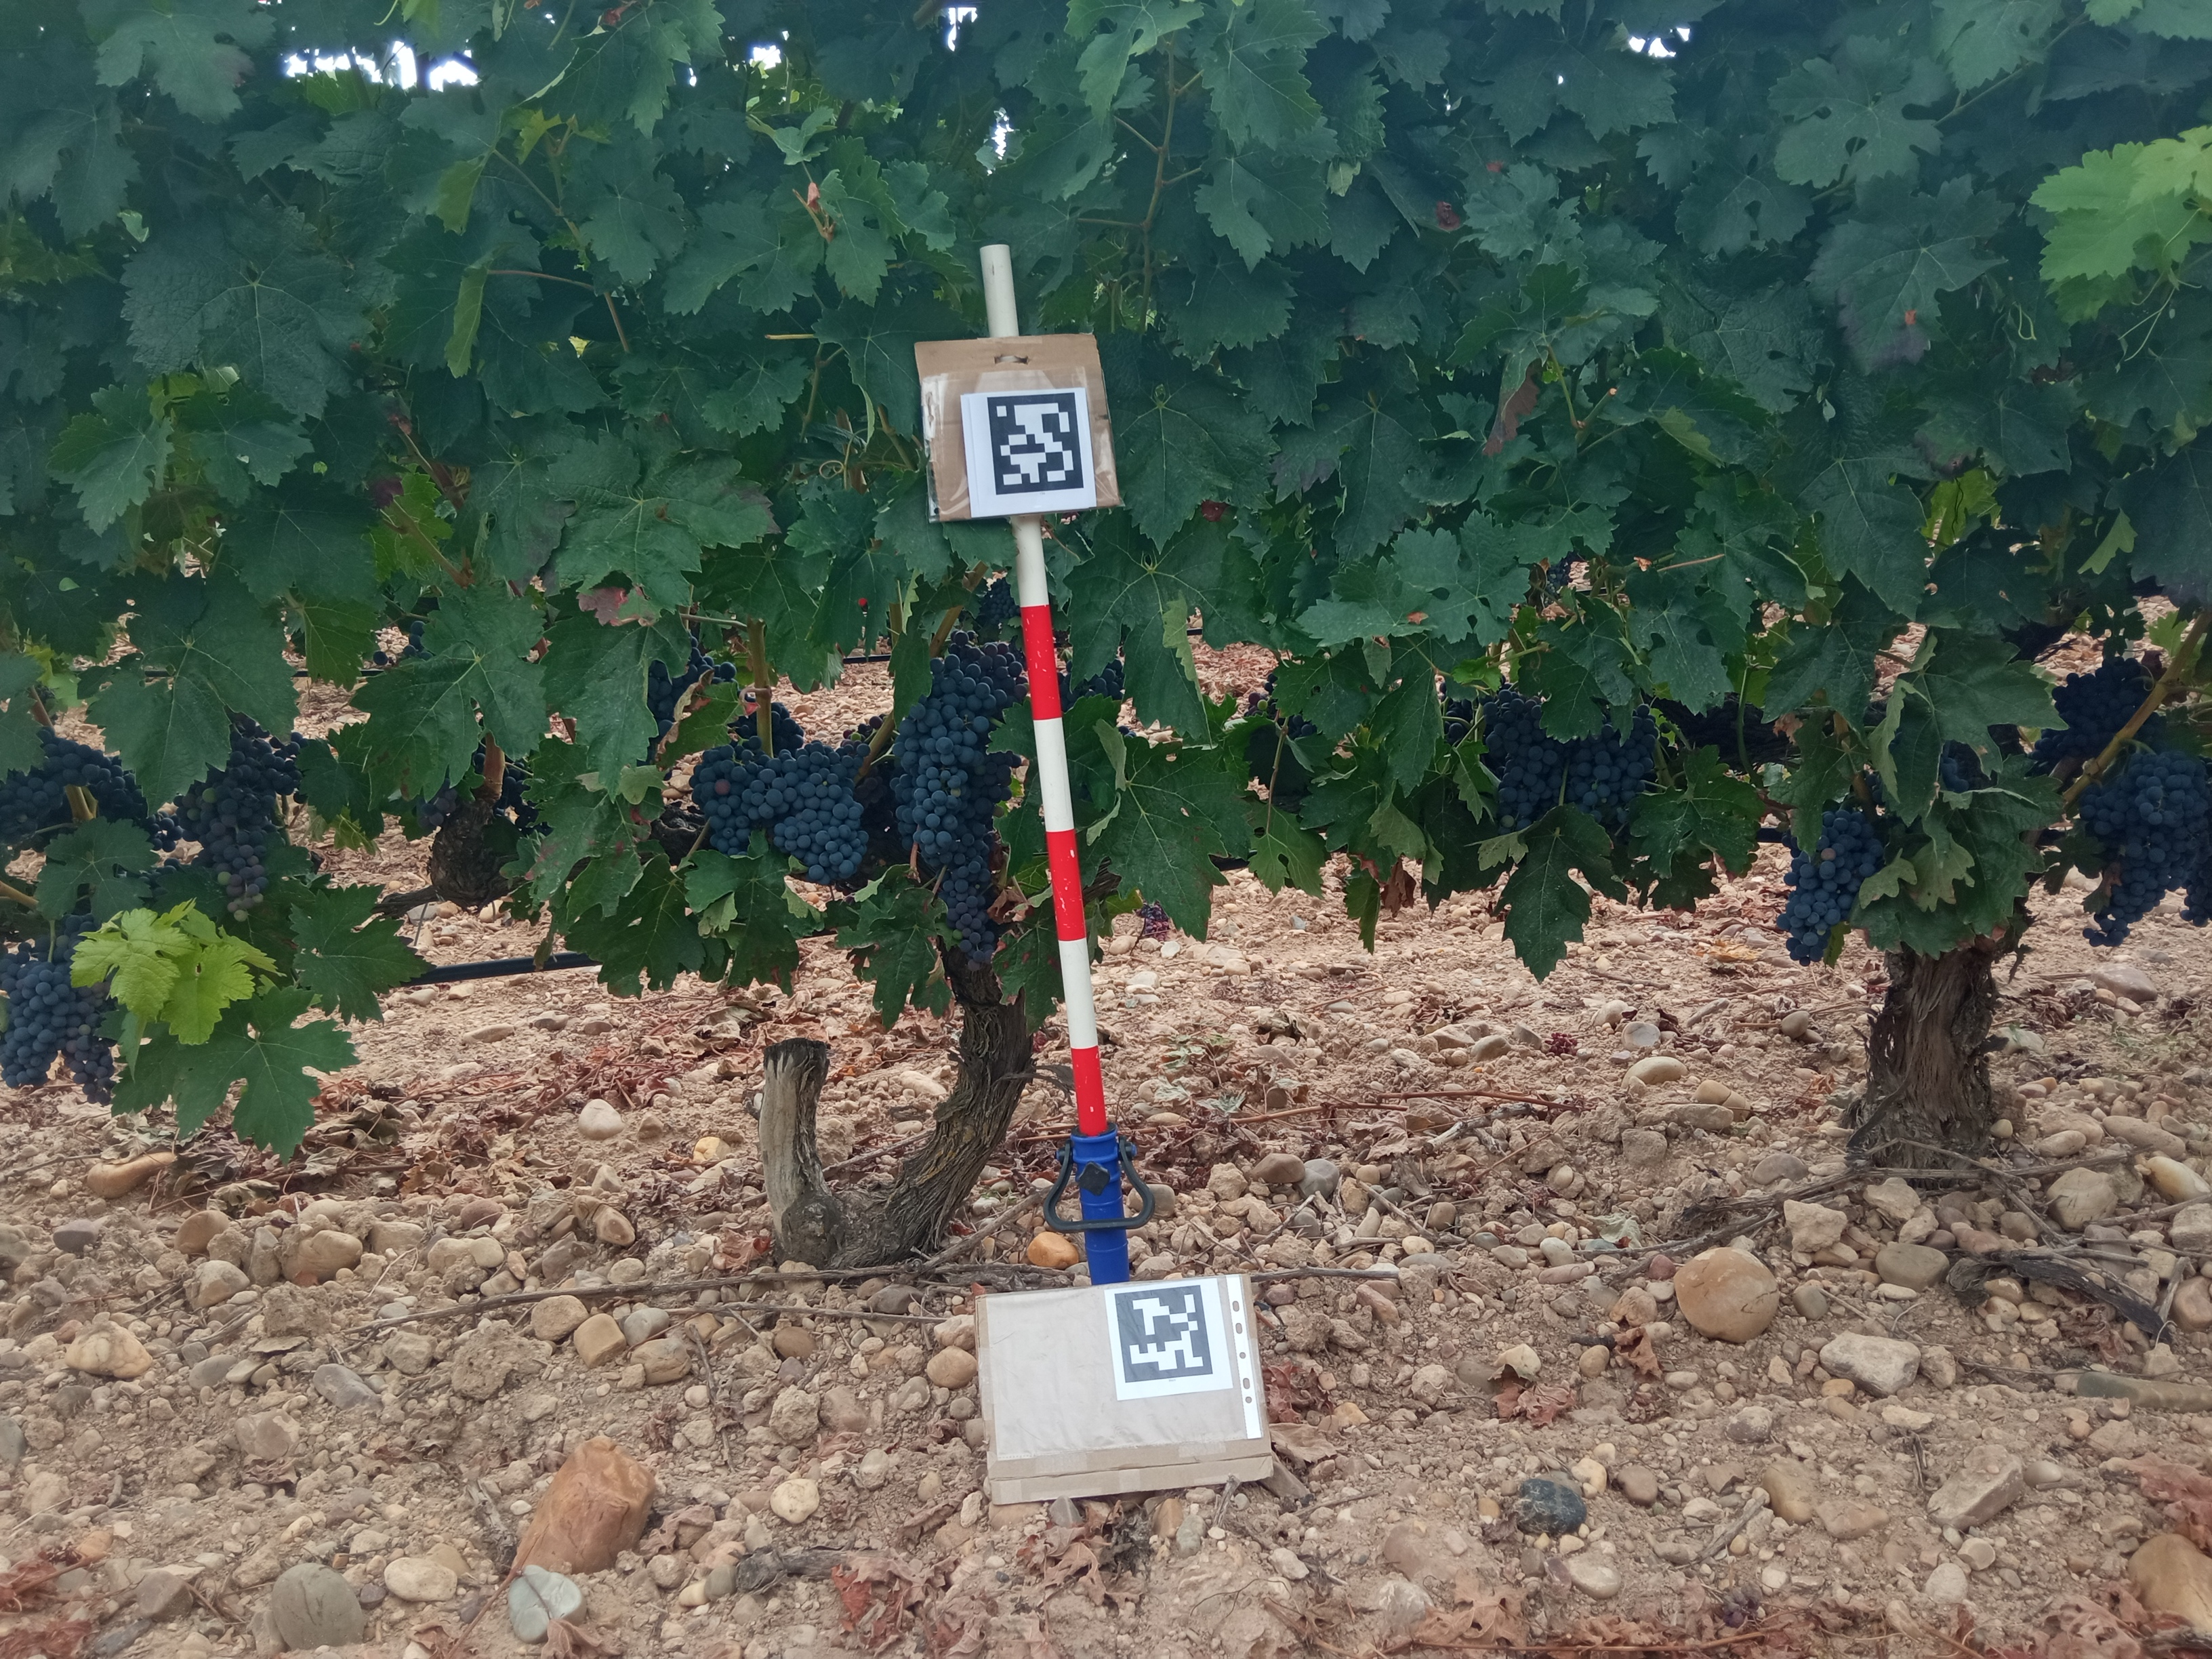grapes: (0, 727, 179, 847), (1778, 807, 1886, 978), (927, 763, 1014, 972), (897, 629, 1029, 762), (2078, 753, 2212, 863), (174, 788, 280, 922), (690, 739, 867, 816), (1484, 685, 1566, 835), (2080, 861, 2188, 953), (2, 934, 63, 1093), (1568, 735, 1663, 823), (2052, 650, 2155, 723), (66, 981, 118, 1107), (773, 817, 876, 880), (226, 732, 314, 802), (1247, 690, 1317, 741), (678, 631, 740, 685), (892, 762, 927, 850), (2033, 723, 2114, 760), (1435, 676, 1482, 739), (1061, 659, 1127, 699), (698, 809, 754, 854), (416, 779, 456, 835), (59, 911, 94, 972), (2182, 863, 2212, 934), (646, 660, 676, 730), (768, 692, 806, 742), (1851, 762, 1888, 812), (1942, 749, 1970, 793), (1629, 699, 1656, 737), (732, 711, 759, 742), (1597, 716, 1620, 746)
